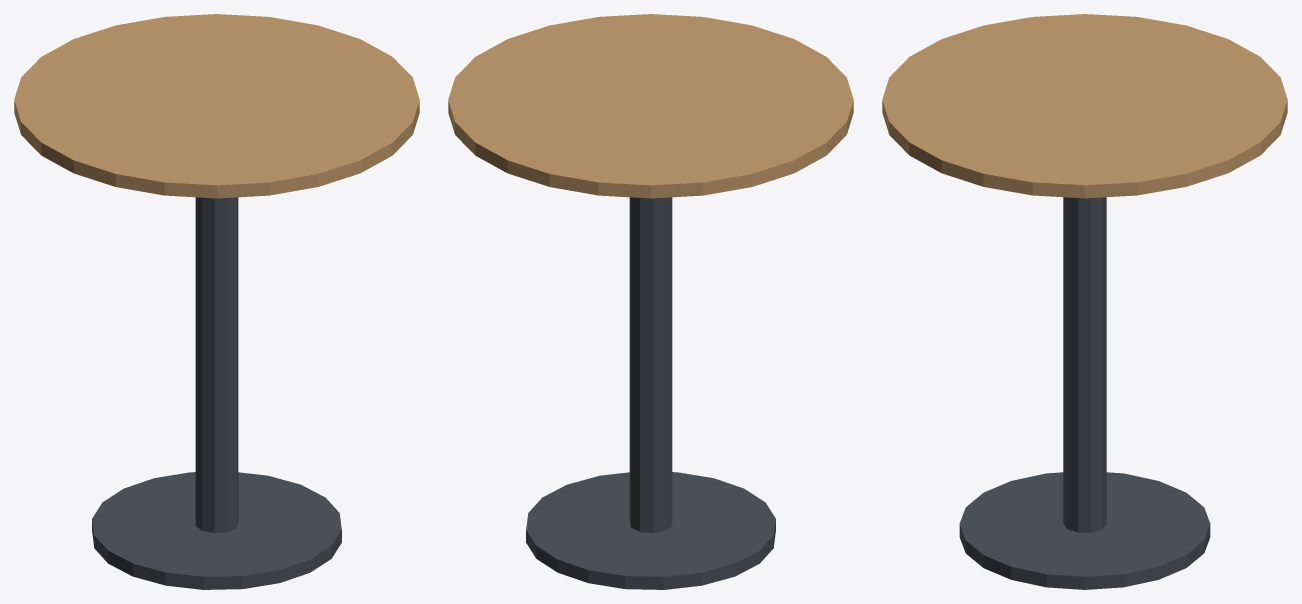
Rendered from bar_table.glb.
3 views of the same model, side by side, from view 1: azimuth 30°, elevation 25°; view 2: azimuth 150°, elevation 25°; view 3: azimuth 270°, elevation 25° (orthographic).
Parts seen in each view (by area): view 1: bar_table_mesh; view 2: bar_table_mesh; view 3: bar_table_mesh.
Part boxes in pixels (left/top/right/bottom): bar_table_mesh: left=14, top=14, right=419, bottom=589; bar_table_mesh: left=448, top=14, right=853, bottom=589; bar_table_mesh: left=882, top=14, right=1287, bottom=589.
Bounding box in the file's own units: 0.84 × 1 × 0.84.
